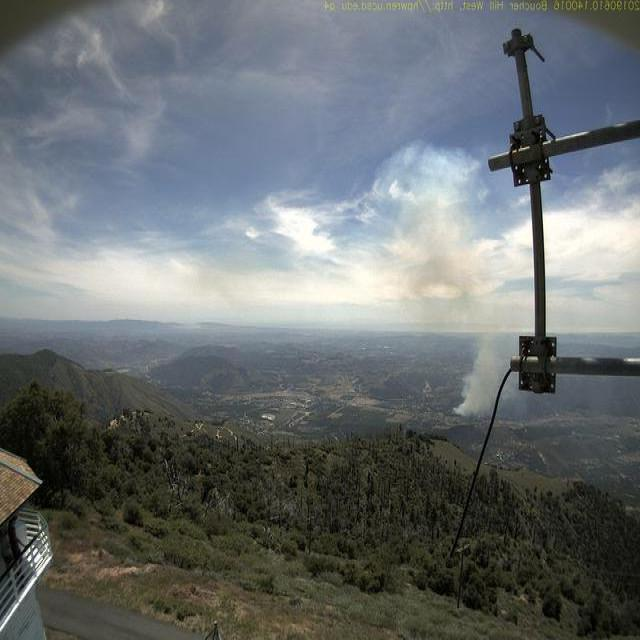Smoke: (396, 200, 514, 416)
